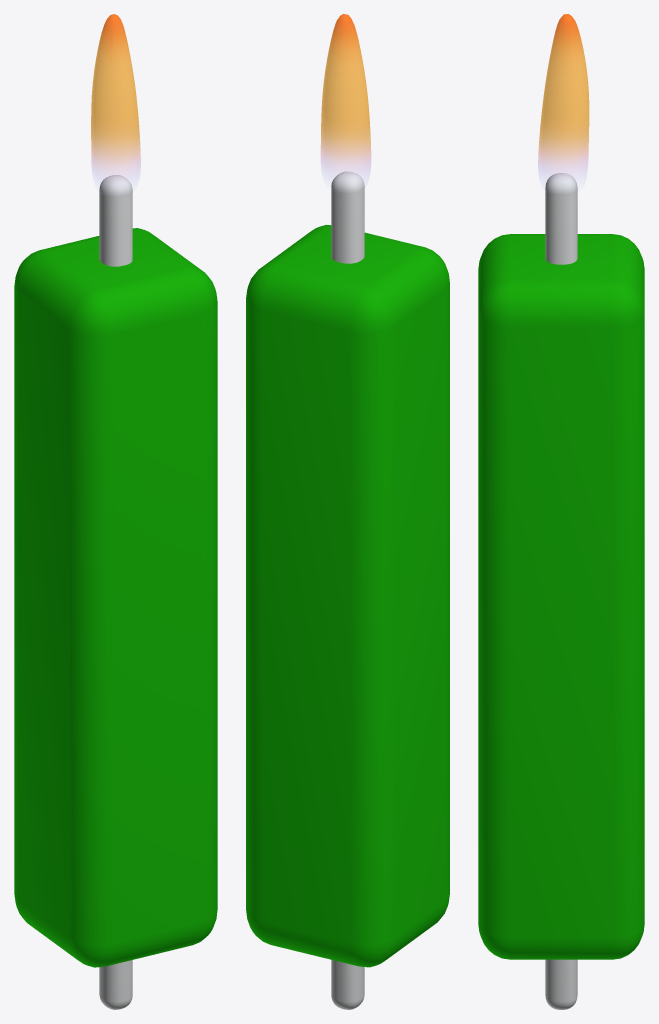
Rendered from japaneseCandleAnimatedFlame.glb.
3 views of the same model, side by side, from view 1: azimuth 30°, elevation 25°; view 2: azimuth 150°, elevation 25°; view 3: azimuth 270°, elevation 25° (orthographic).
Visible parts, largest first — view 1: Wax, Flame, Wick; view 2: Wax, Flame, Wick; view 3: Wax, Flame, Wick.
Boxes of the visible parts, x1,y1,x2,y2 form: Wax: (14,228,217,967); Flame: (91,14,140,184); Wick: (99,175,132,1009); Wax: (246,224,449,967); Flame: (320,14,371,182); Wick: (331,171,364,1009); Wax: (478,234,644,959); Flame: (538,14,589,183); Wick: (545,173,577,1009).
Bounding box in the file's own units: 0.7038 × 4.64 × 0.7038.
Materials: 3 (1 with a texture image).
